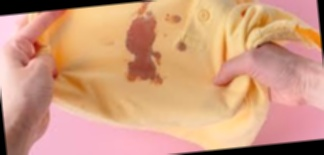blood: (121, 17, 161, 83)
